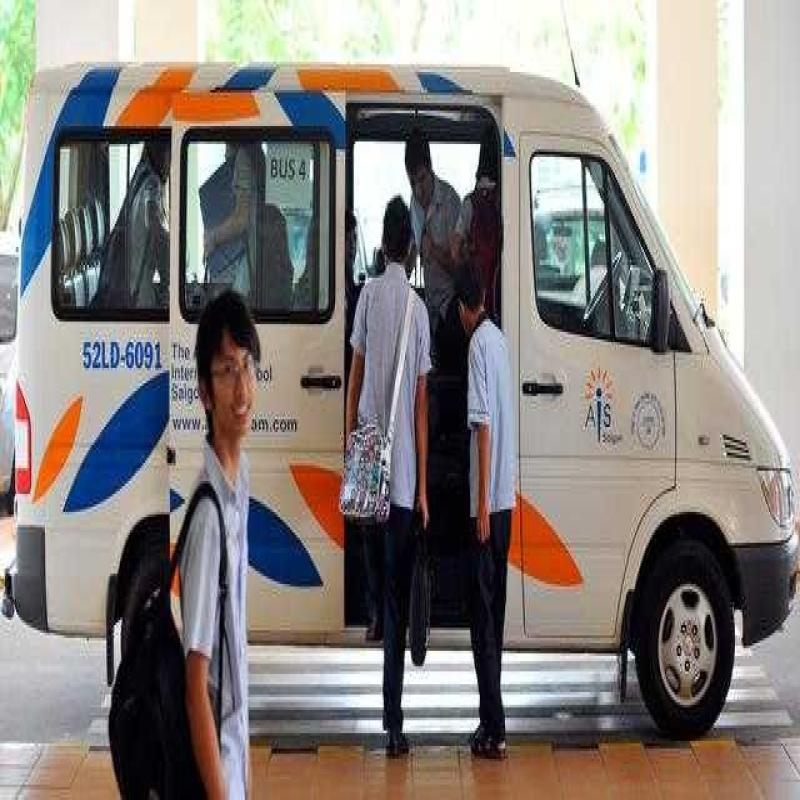bus: (27, 54, 776, 691)
